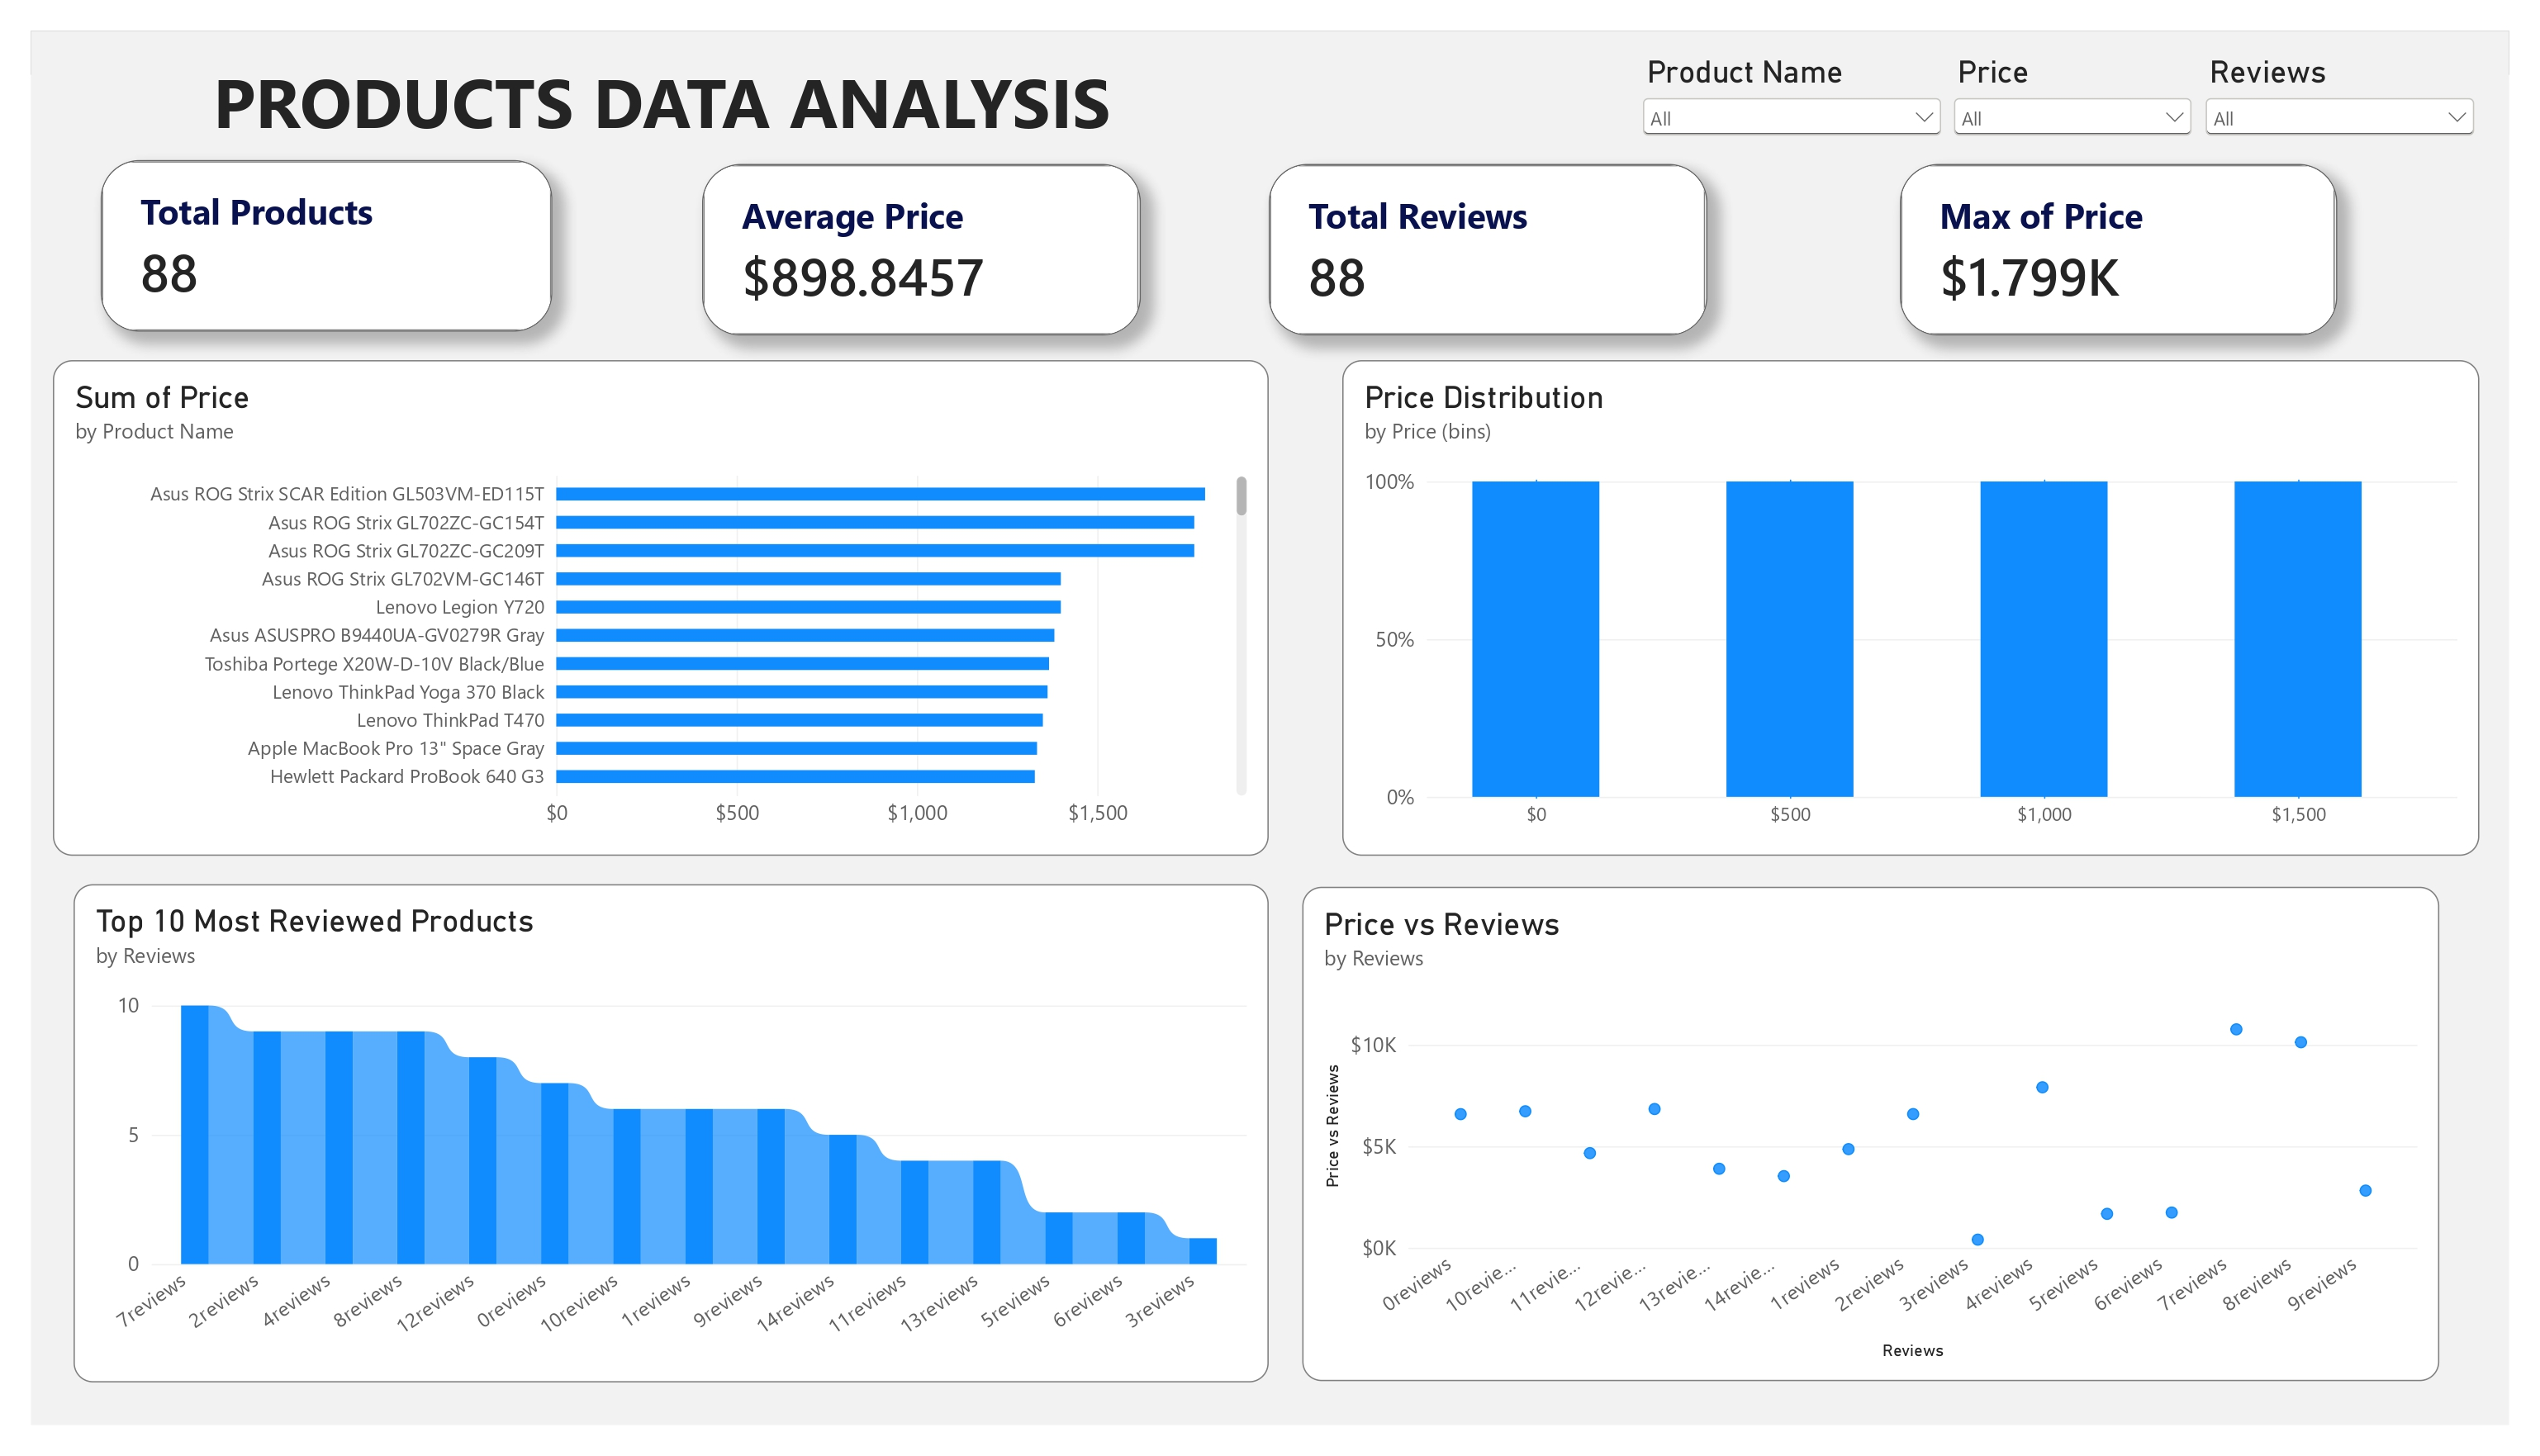

What the dashboard file says about the page in this screenshot:
{"tool":"powerbi","page":{"name":"Page 1","canvas":[1920,1080],"ordinal":0},"visuals":[{"type":"textbox","box":[140.8,16.7,843.8,81.2],"z":0},{"type":"cardVisual","fields":{"Data":["CountNonNull(products_dataset.Product Name)"]},"box":[54.2,100,350,133.3],"z":1000},{"type":"cardVisual","fields":{"Data":["Avg(products_dataset.Price)"]},"box":[520.1,102.6,339.6,133.3],"z":2000},{"type":"cardVisual","fields":{"Data":["CountNonNull(products_dataset.Reviews)"]},"box":[959.1,102.6,339.6,133.3],"z":3000},{"type":"clusteredBarChart","fields":{"Category":["products_dataset.Product Name"],"Y":["Sum(products_dataset.Price)"]},"box":[16.7,255.3,942.4,384.1],"z":4000},{"type":"hundredPercentStackedColumnChart","fields":{"Category":["products_dataset.Price (bins)"],"Y":["CountNonNull(products_dataset.Product Name)"]},"box":[1016.4,255.3,880.4,384.1],"z":5000},{"type":"ribbonChart","fields":{"Category":["products_dataset.Reviews"],"Y":["CountNonNull(products_dataset.Product Name)"]},"box":[33.4,660.9,925.7,386.5],"z":6000},{"type":"scatterChart","fields":{"X":["products_dataset.Reviews"],"Y":["Sum(products_dataset.Price)"]},"box":[985.4,663.3,880.9,383],"z":7000},{"type":"slicer","fields":{"Values":["products_dataset.Product Name"]},"box":[1244.1,17.6,241.2,82.4],"z":8000},{"type":"slicer","fields":{"Values":["products_dataset.Price"]},"box":[1485.3,17.6,194.1,102.9],"z":9000},{"type":"slicer","fields":{"Values":["products_dataset.Reviews"]},"box":[1680,17.8,217.8,86.7],"z":10000},{"type":"cardVisual","fields":{"Data":["Max(products_dataset.Price)"]},"box":[1448.3,102.6,338.8,133.6],"z":11000}]}

Visuals, with their boxes on the page's 1920x1080 design canvas (x1, y1, x2, y2). These are canvas units, not pixel positions in the 2540x1456 screenshot, which may show the page scaled, cropped or inside an application window:
textbox: box=[141, 17, 985, 98]
cardVisual - CountNonNull(products_dataset.Product Name): box=[54, 100, 404, 233]
cardVisual - Avg(products_dataset.Price): box=[520, 103, 860, 236]
cardVisual - CountNonNull(products_dataset.Reviews): box=[959, 103, 1299, 236]
clusteredBarChart - products_dataset.Product Name x Sum(products_dataset.Price): box=[17, 255, 959, 639]
hundredPercentStackedColumnChart - products_dataset.Price (bins) x CountNonNull(products_dataset.Product Name): box=[1016, 255, 1897, 639]
ribbonChart - products_dataset.Reviews x CountNonNull(products_dataset.Product Name): box=[33, 661, 959, 1047]
scatterChart - products_dataset.Reviews x Sum(products_dataset.Price): box=[985, 663, 1866, 1046]
slicer - products_dataset.Product Name: box=[1244, 18, 1485, 100]
slicer - products_dataset.Price: box=[1485, 18, 1679, 120]
slicer - products_dataset.Reviews: box=[1680, 18, 1898, 104]
cardVisual - Max(products_dataset.Price): box=[1448, 103, 1787, 236]
